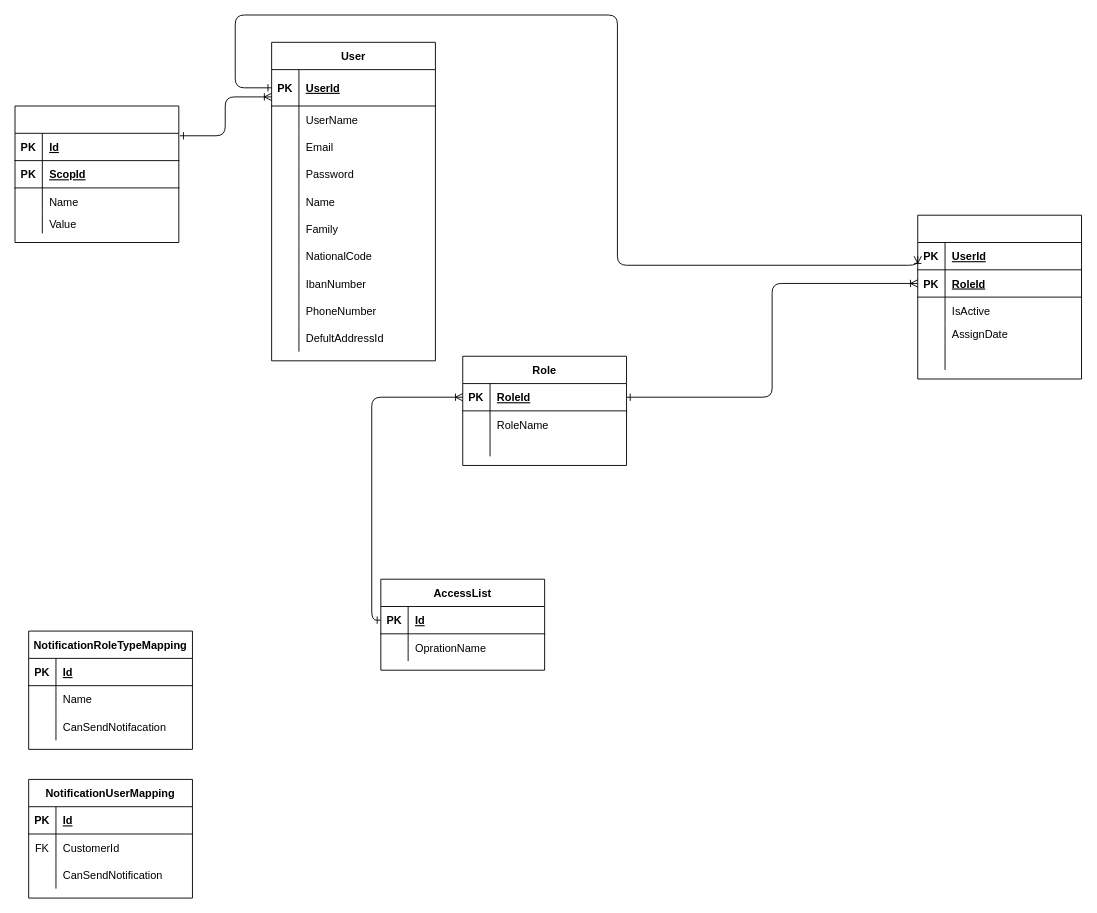
This 1097x913 diagram has some shape labels left out. The shapes that lost their labels are listed below. From the top down, each one's box as (x1, y1, x2, y2) in pixels, then its label:
(14, 105, 179, 243): Setting
(917, 214, 1082, 379): UserRole
